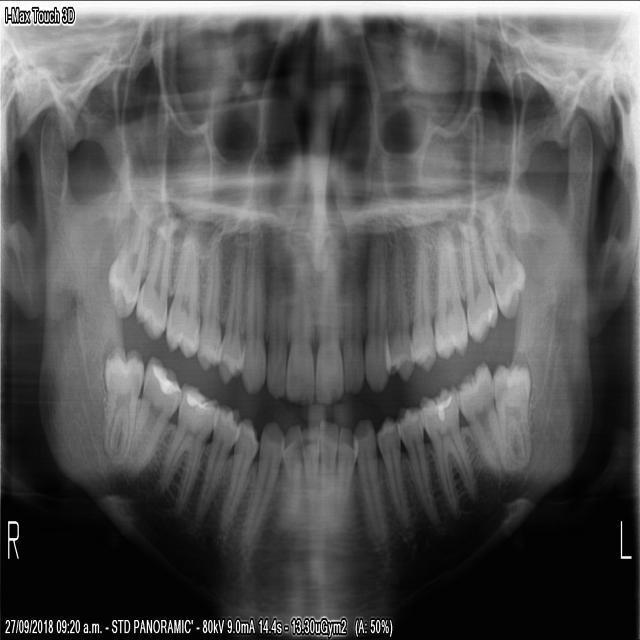LCD: (351, 414, 392, 549)
LCU: (364, 236, 390, 395)
LID: (334, 423, 359, 524), (318, 414, 338, 520)
LIU: (313, 251, 342, 406), (342, 243, 364, 395)
LMD: (417, 381, 481, 524), (457, 359, 507, 473), (491, 359, 530, 474)
LMU: (477, 190, 529, 321), (456, 214, 498, 345), (432, 222, 467, 362)
LPMD: (394, 400, 441, 526), (374, 409, 411, 532)
LPMU: (388, 236, 415, 385), (410, 235, 436, 374)
RCD: (239, 416, 280, 551)
RCU: (237, 235, 264, 398)
RID: (278, 419, 300, 515), (299, 420, 320, 517)
RIU: (282, 248, 314, 405), (265, 247, 286, 401)
RMD: (149, 380, 220, 525), (118, 350, 180, 482), (101, 344, 144, 469)
RMU: (106, 198, 149, 320), (163, 229, 199, 361), (132, 219, 171, 339)
RPMD: (184, 401, 239, 540), (213, 414, 256, 536)
RPMU: (213, 243, 245, 386), (193, 226, 221, 371)
